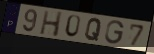0: (63, 14, 82, 39)
7: (129, 23, 146, 47)
9: (22, 9, 38, 33)
G: (104, 20, 125, 45)
H: (39, 9, 65, 38)
Q: (84, 17, 103, 43)
